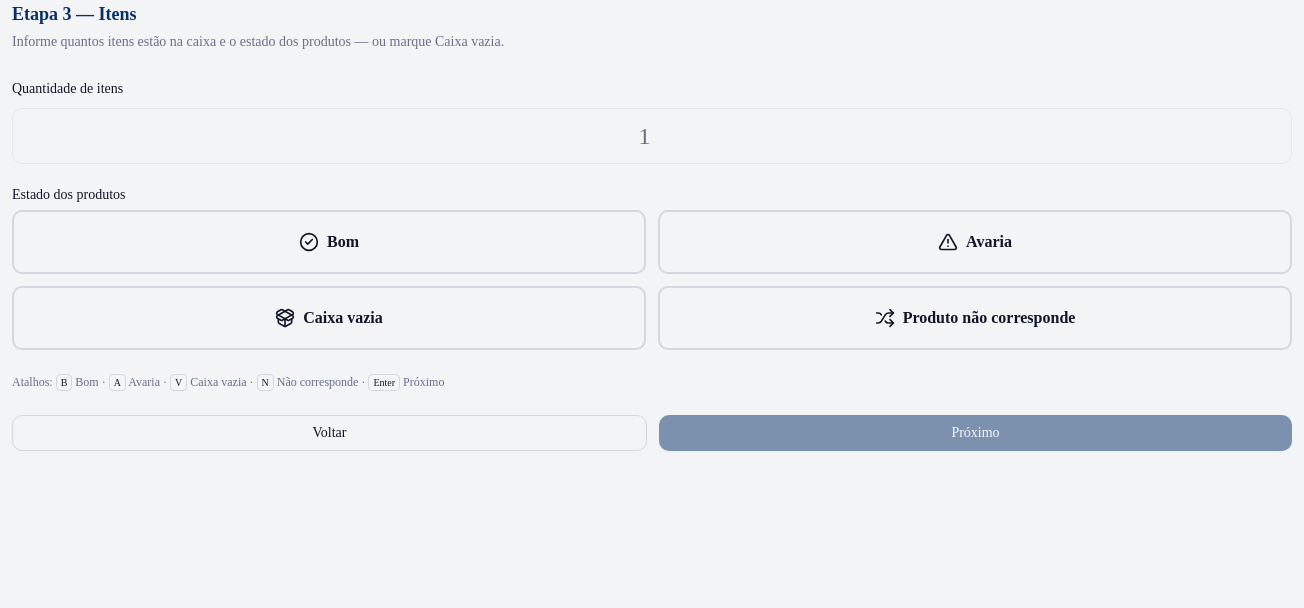
Test: StepItemCount — Etapa 3 (Itens) › bloqueia avariados acima da quantidade, com mensagem
Type "3" into the number field labelled "Quantidade de itens". click: x=652, y=136
box: left=12, top=108, right=1292, bottom=164
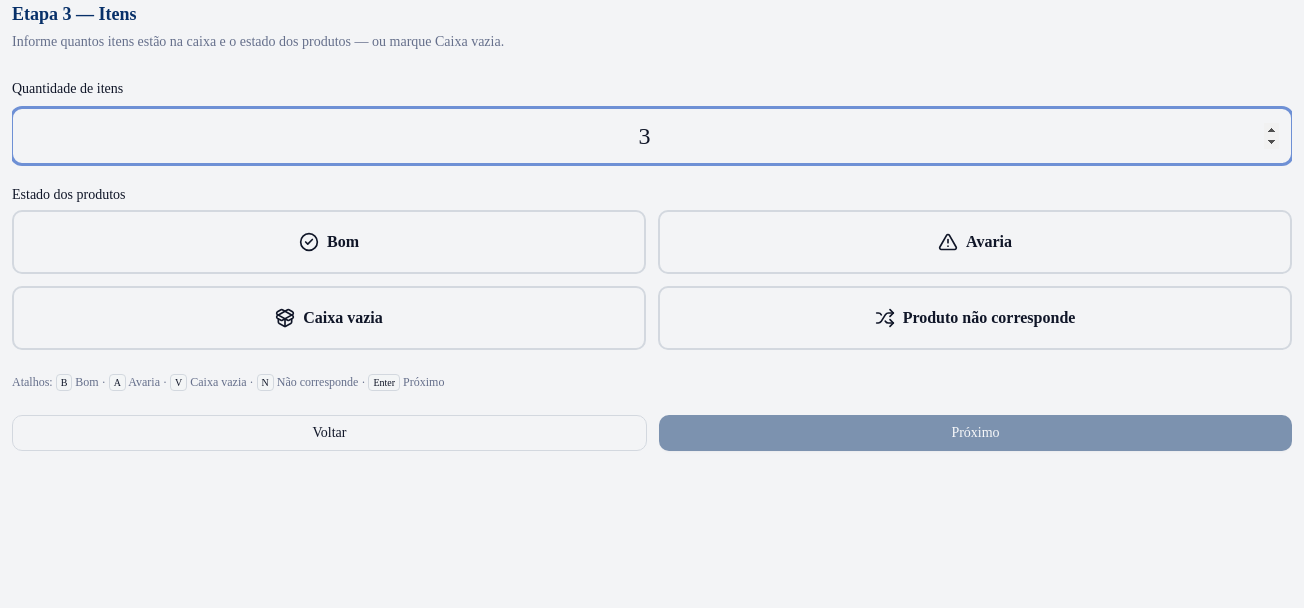
Click the button "Avaria". click: x=975, y=242
box: left=658, top=210, right=1292, bottom=274
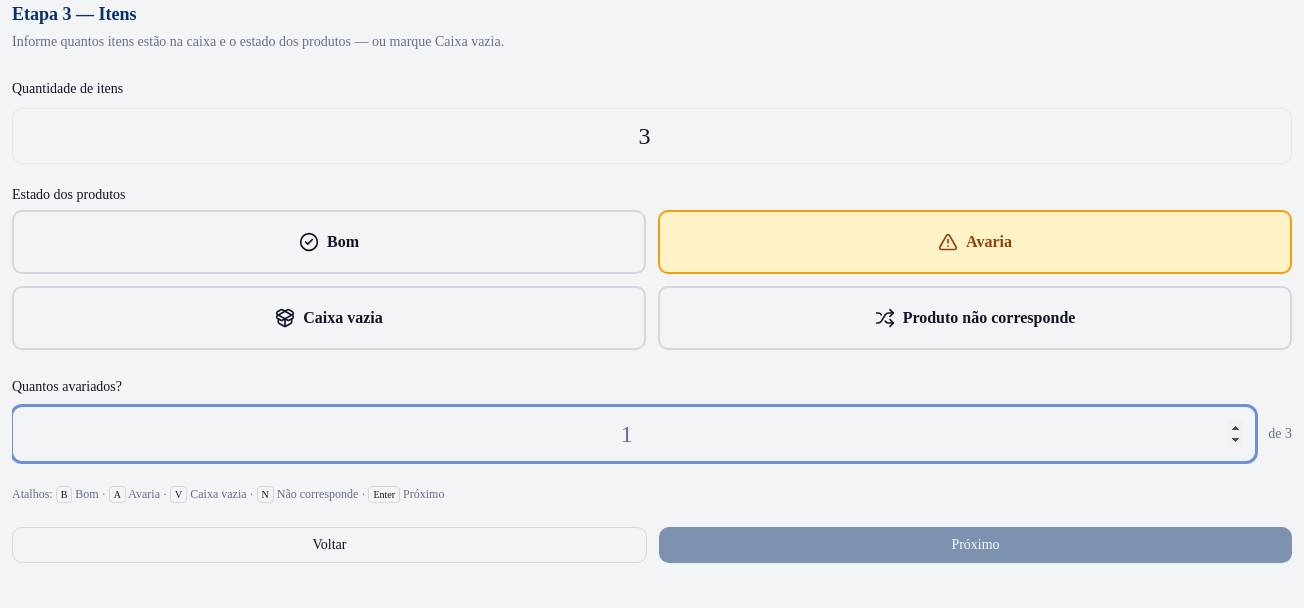
Type "4" into the number field labelled "Quantos avariados?". click: x=634, y=434
box: left=12, top=406, right=1256, bottom=462
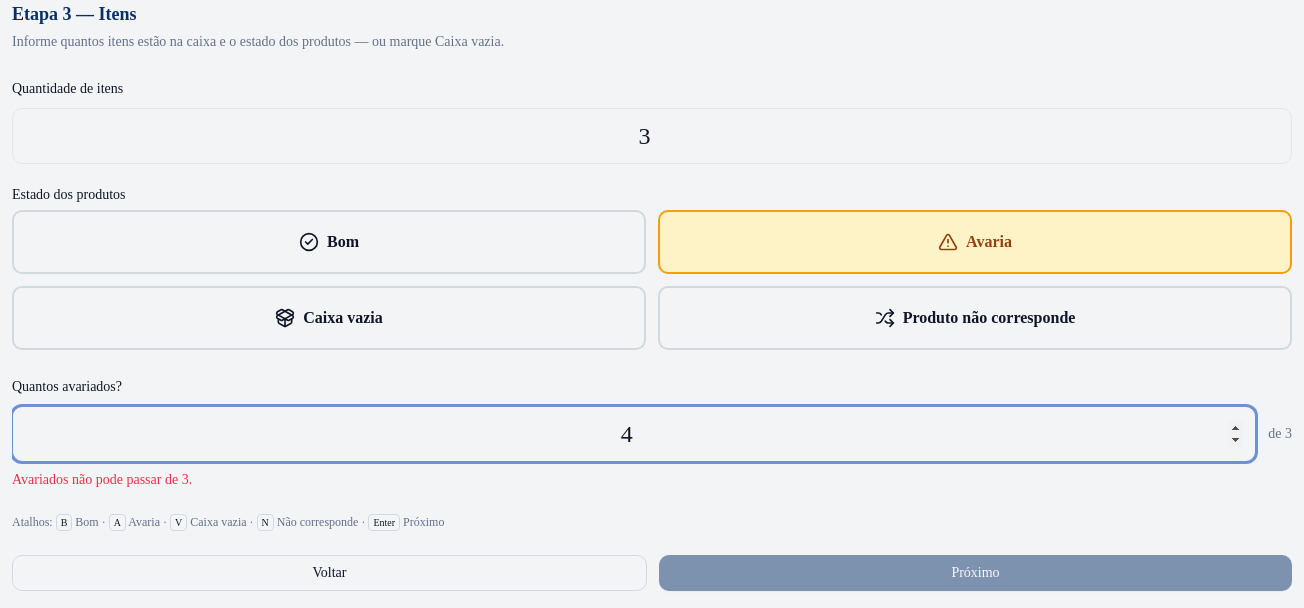
Check: the button "Próximo" is disabled, box left=659, top=555, right=1292, bottom=591
Check: the text "Avariados não pode passar de 3." is shown, box left=12, top=472, right=192, bottom=487
